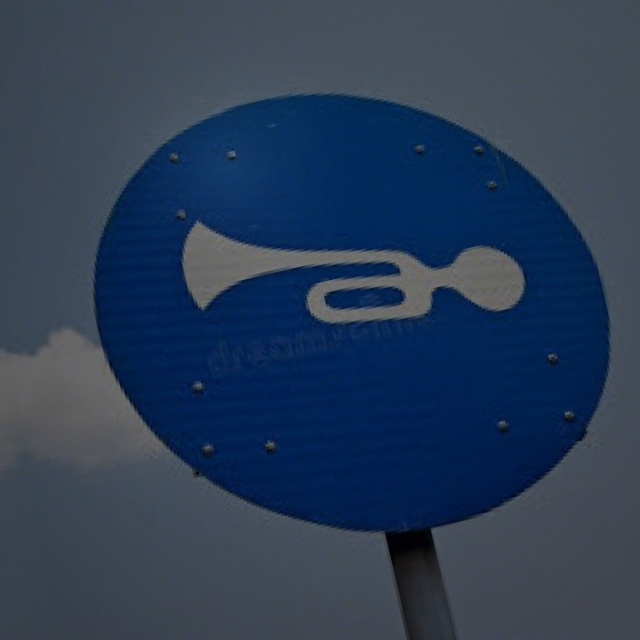Compulsory_Sound_Horn: (65, 34, 637, 577)
